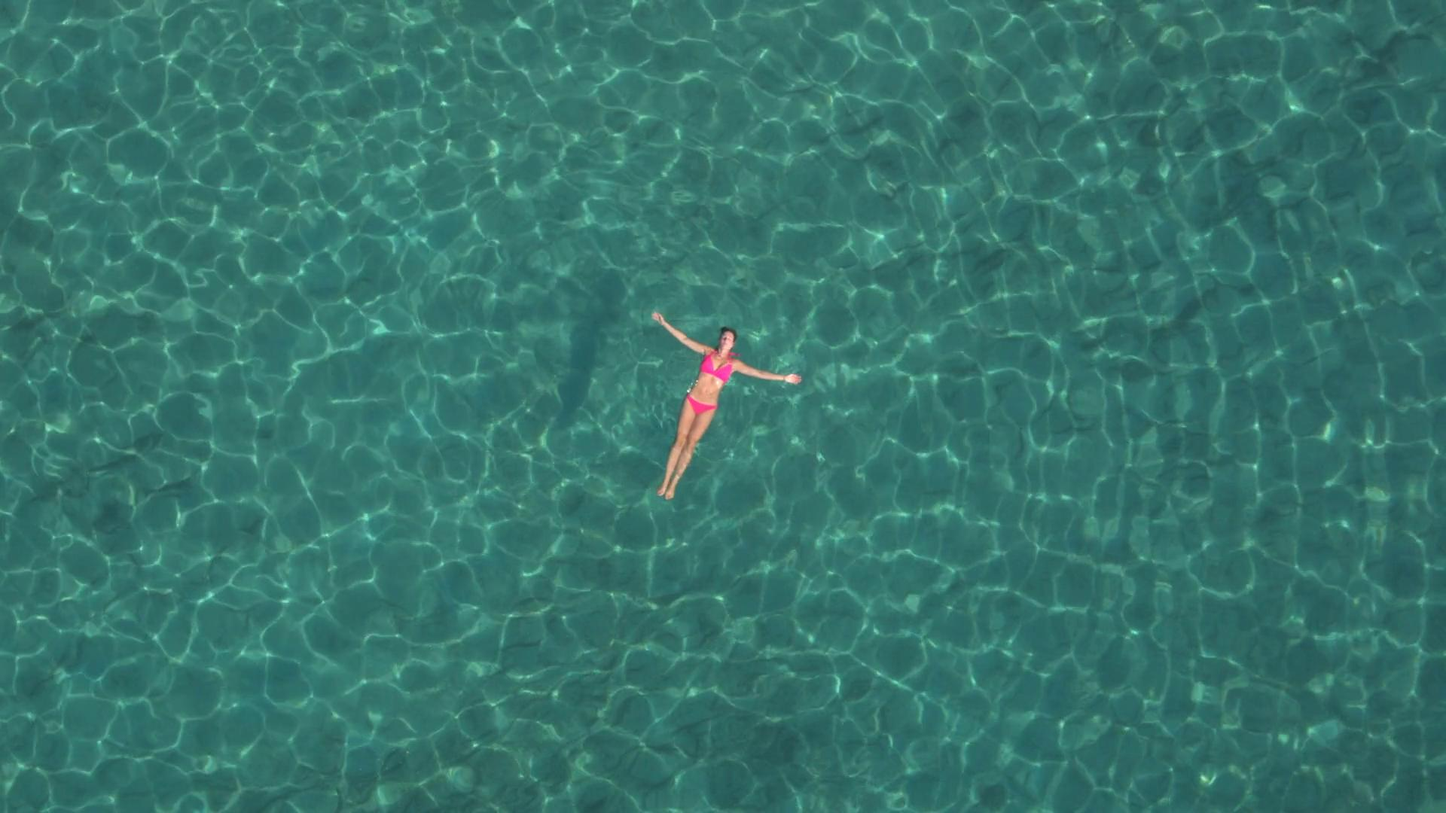human: (650, 313, 803, 505)
